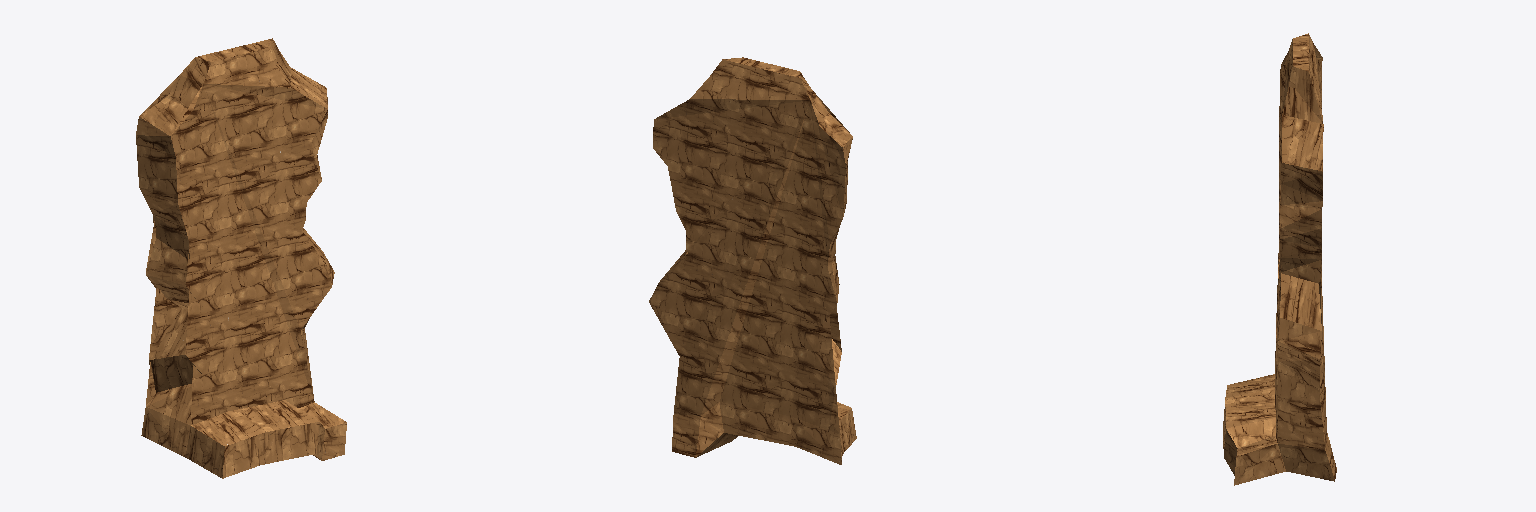
3 renders of one model, left to right at view 1: azimuth 30°, elevation 25°; view 2: azimuth 150°, elevation 25°; view 3: azimuth 270°, elevation 25°, orthographic.
Parts seen in each view (by area): view 1: Plane.063_Plane.069; view 2: Plane.063_Plane.069; view 3: Plane.063_Plane.069.
Boxes of the visible parts, <box> form: Plane.063_Plane.069: <box>136,38,346,478</box>; Plane.063_Plane.069: <box>649,57,856,464</box>; Plane.063_Plane.069: <box>1223,33,1336,485</box>.
Size of the model in its own units: 525 by 1011 by 261.
1 materials, 1 textured.